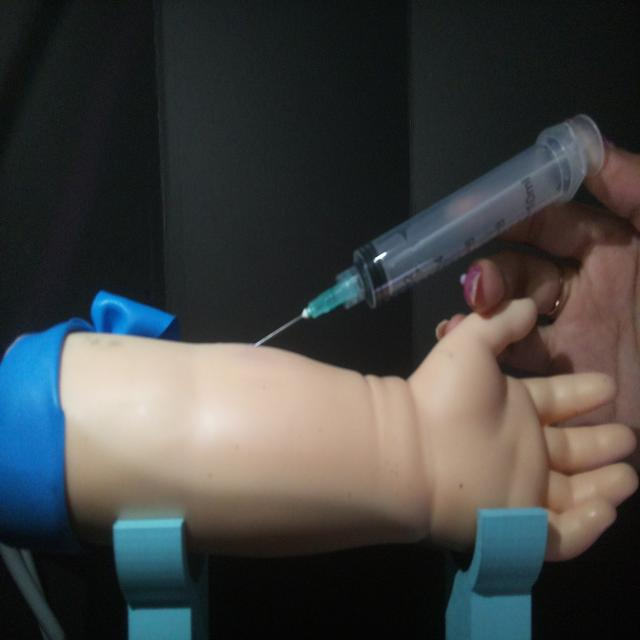28deg: (248, 107, 608, 351)
